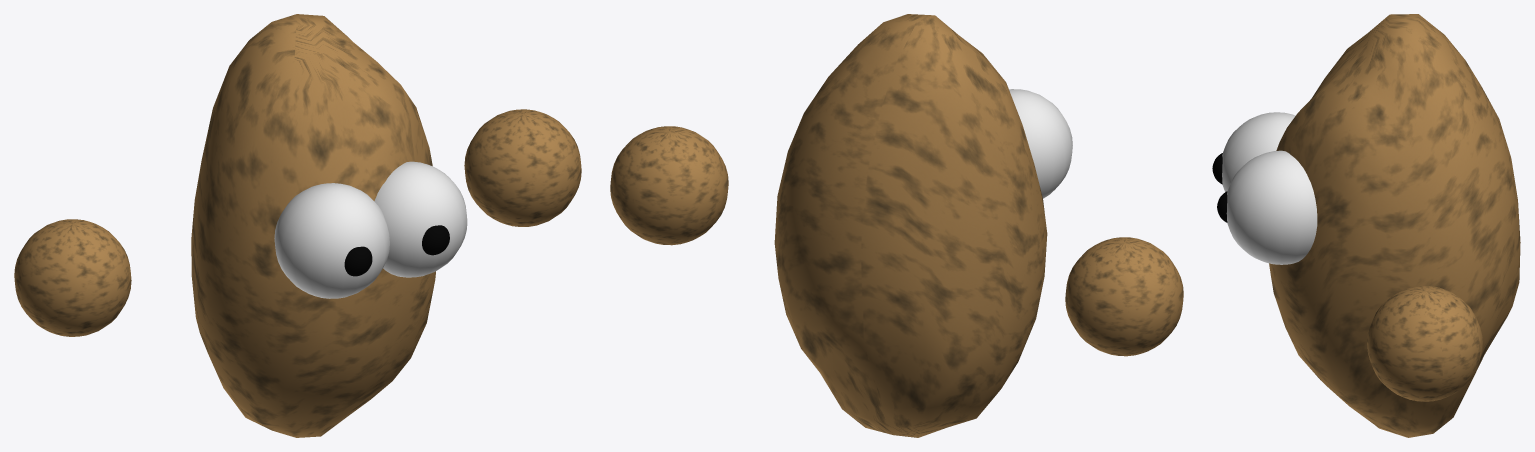
Rendered from PoteiroCharacter.fbx.
The picture shows the model from 3 angles, left to right: view 1: azimuth 30°, elevation 25°; view 2: azimuth 150°, elevation 25°; view 3: azimuth 270°, elevation 25°; orthographic projection. The views are drawn at different scales.
Visible parts, largest first — view 1: Potato, LeftHand, RightHand, LeftEyeBall, RightEyeBall, RightPupil, LeftPupil; view 2: Potato, LeftHand, RightHand, LeftEyeBall; view 3: Potato, RightHand, RightEyeBall, LeftEyeBall.
Boxes of the visible parts, x1=… form: Potato: x1=191, y1=14, x2=435, y2=437; LeftHand: x1=14, y1=219, x2=131, y2=336; RightHand: x1=464, y1=109, x2=581, y2=226; LeftEyeBall: x1=274, y1=183, x2=389, y2=298; RightEyeBall: x1=374, y1=161, x2=467, y2=277; RightPupil: x1=422, y1=225, x2=449, y2=255; LeftPupil: x1=344, y1=246, x2=372, y2=276; Potato: x1=774, y1=14, x2=1047, y2=437; LeftHand: x1=1065, y1=237, x2=1183, y2=356; RightHand: x1=610, y1=126, x2=728, y2=245; LeftEyeBall: x1=1009, y1=89, x2=1072, y2=198; Potato: x1=1269, y1=14, x2=1520, y2=437; RightHand: x1=1367, y1=286, x2=1482, y2=401; RightEyeBall: x1=1226, y1=150, x2=1317, y2=264; LeftEyeBall: x1=1222, y1=112, x2=1295, y2=192.
Bounding box in the file's own units: 15.43 × 11.05 × 7.57.
